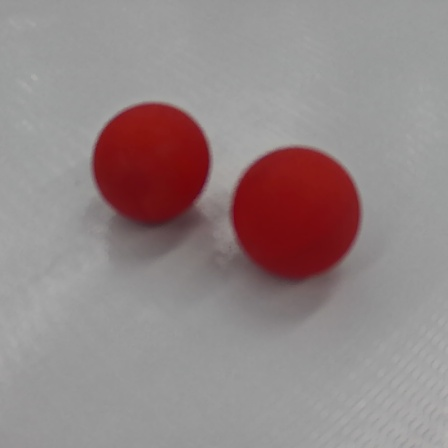red: (229, 144, 364, 282), (91, 100, 211, 226)
